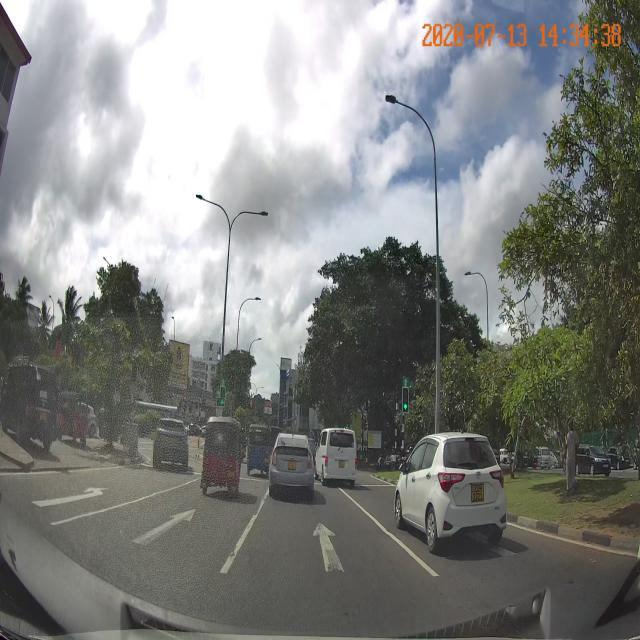forward: (72, 489, 243, 572), (217, 509, 434, 569)
